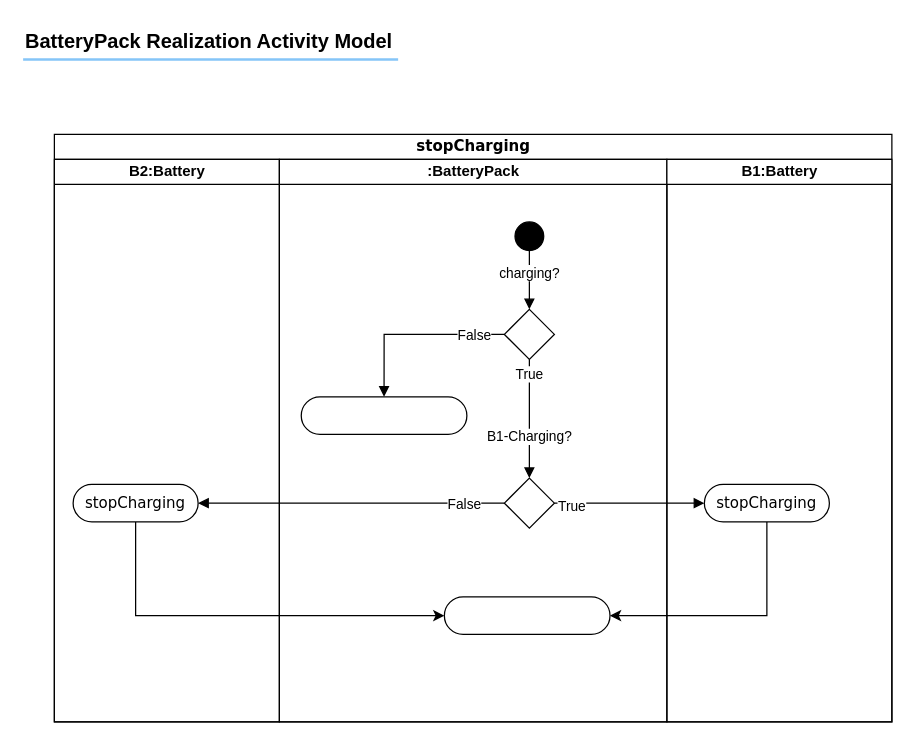
This 914x744 diagram has some shape labels left out. Each missing label, with the centre of its shape:
"set state to Idle" belongs at point 526,615.
"stay in the current state" belongs at point 383,415.
